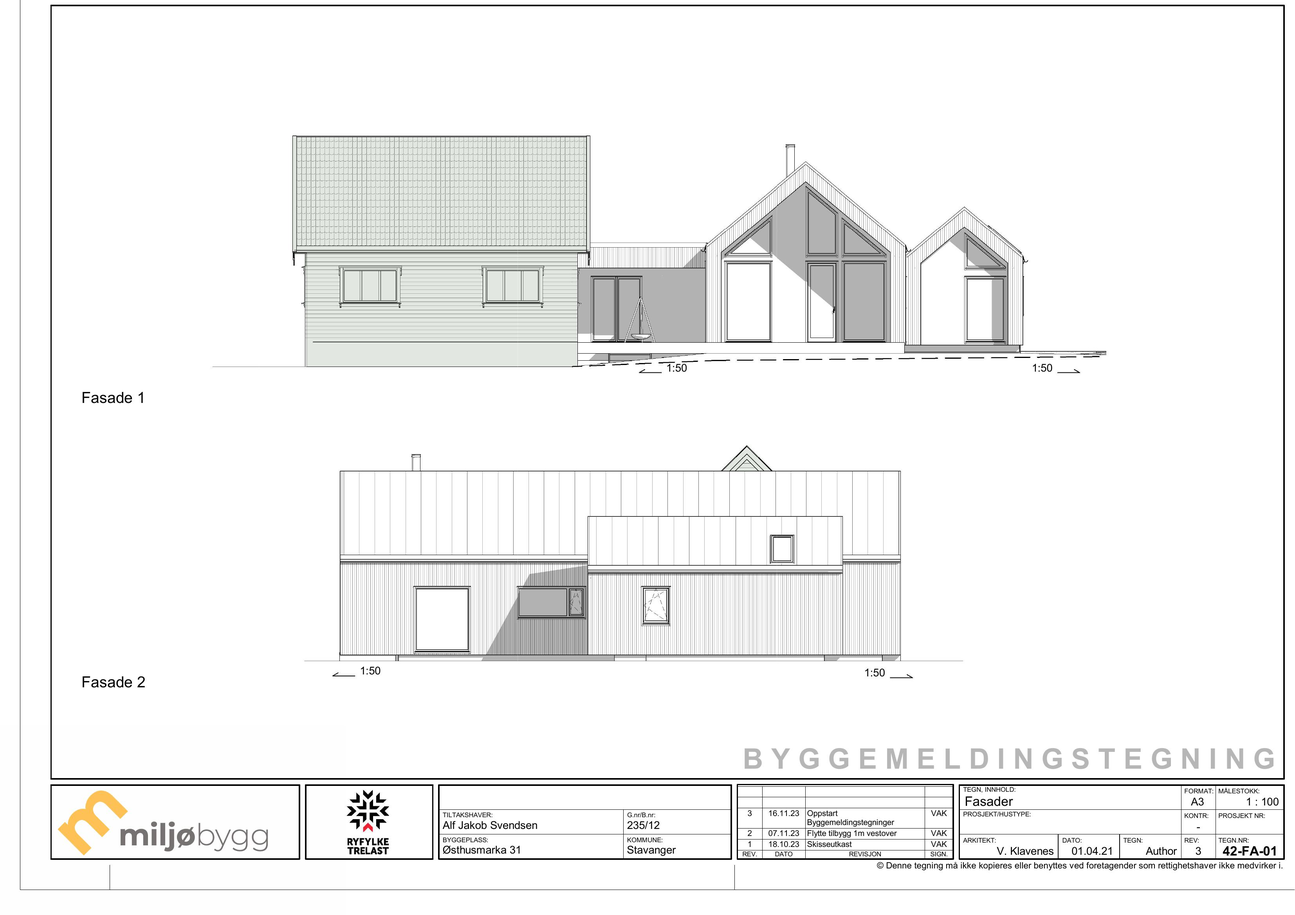fasade: (289, 135, 1026, 361), (339, 445, 902, 662)
